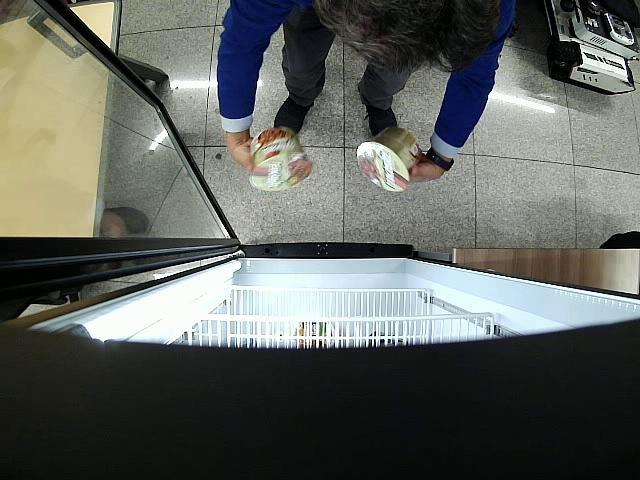03_chapagetti_L: (356, 125, 422, 192), (247, 127, 313, 192)
